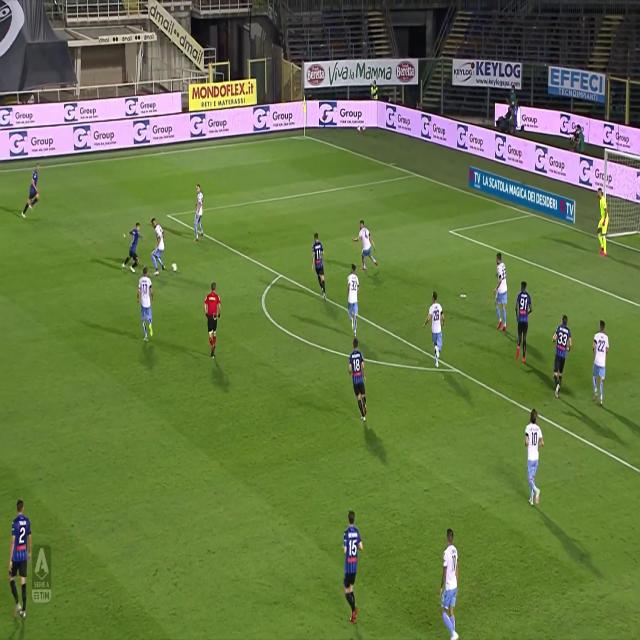ball: (172, 259, 178, 274)
team1: (339, 508, 364, 628), (7, 501, 30, 622), (349, 340, 370, 425), (552, 314, 572, 397), (514, 278, 532, 364), (204, 282, 222, 359), (312, 232, 328, 300), (24, 164, 42, 218), (124, 222, 143, 273)
team2: (437, 528, 459, 640), (524, 412, 544, 508), (424, 291, 445, 369), (591, 320, 609, 405), (137, 267, 155, 342), (356, 220, 379, 273), (494, 252, 509, 330), (152, 219, 170, 276), (346, 264, 360, 334), (192, 185, 204, 244)
